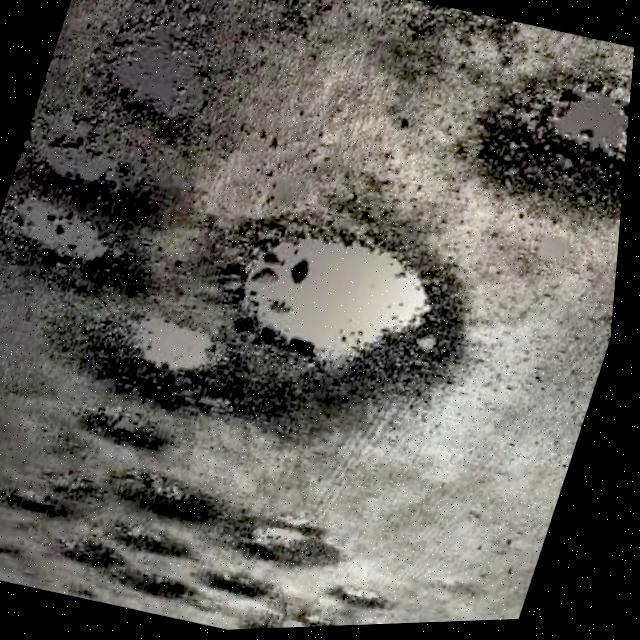pothole: (214, 203, 462, 409), (458, 54, 636, 242), (99, 292, 245, 426), (0, 179, 130, 278), (105, 458, 241, 540), (234, 510, 358, 586), (115, 558, 213, 614), (337, 579, 404, 621)
